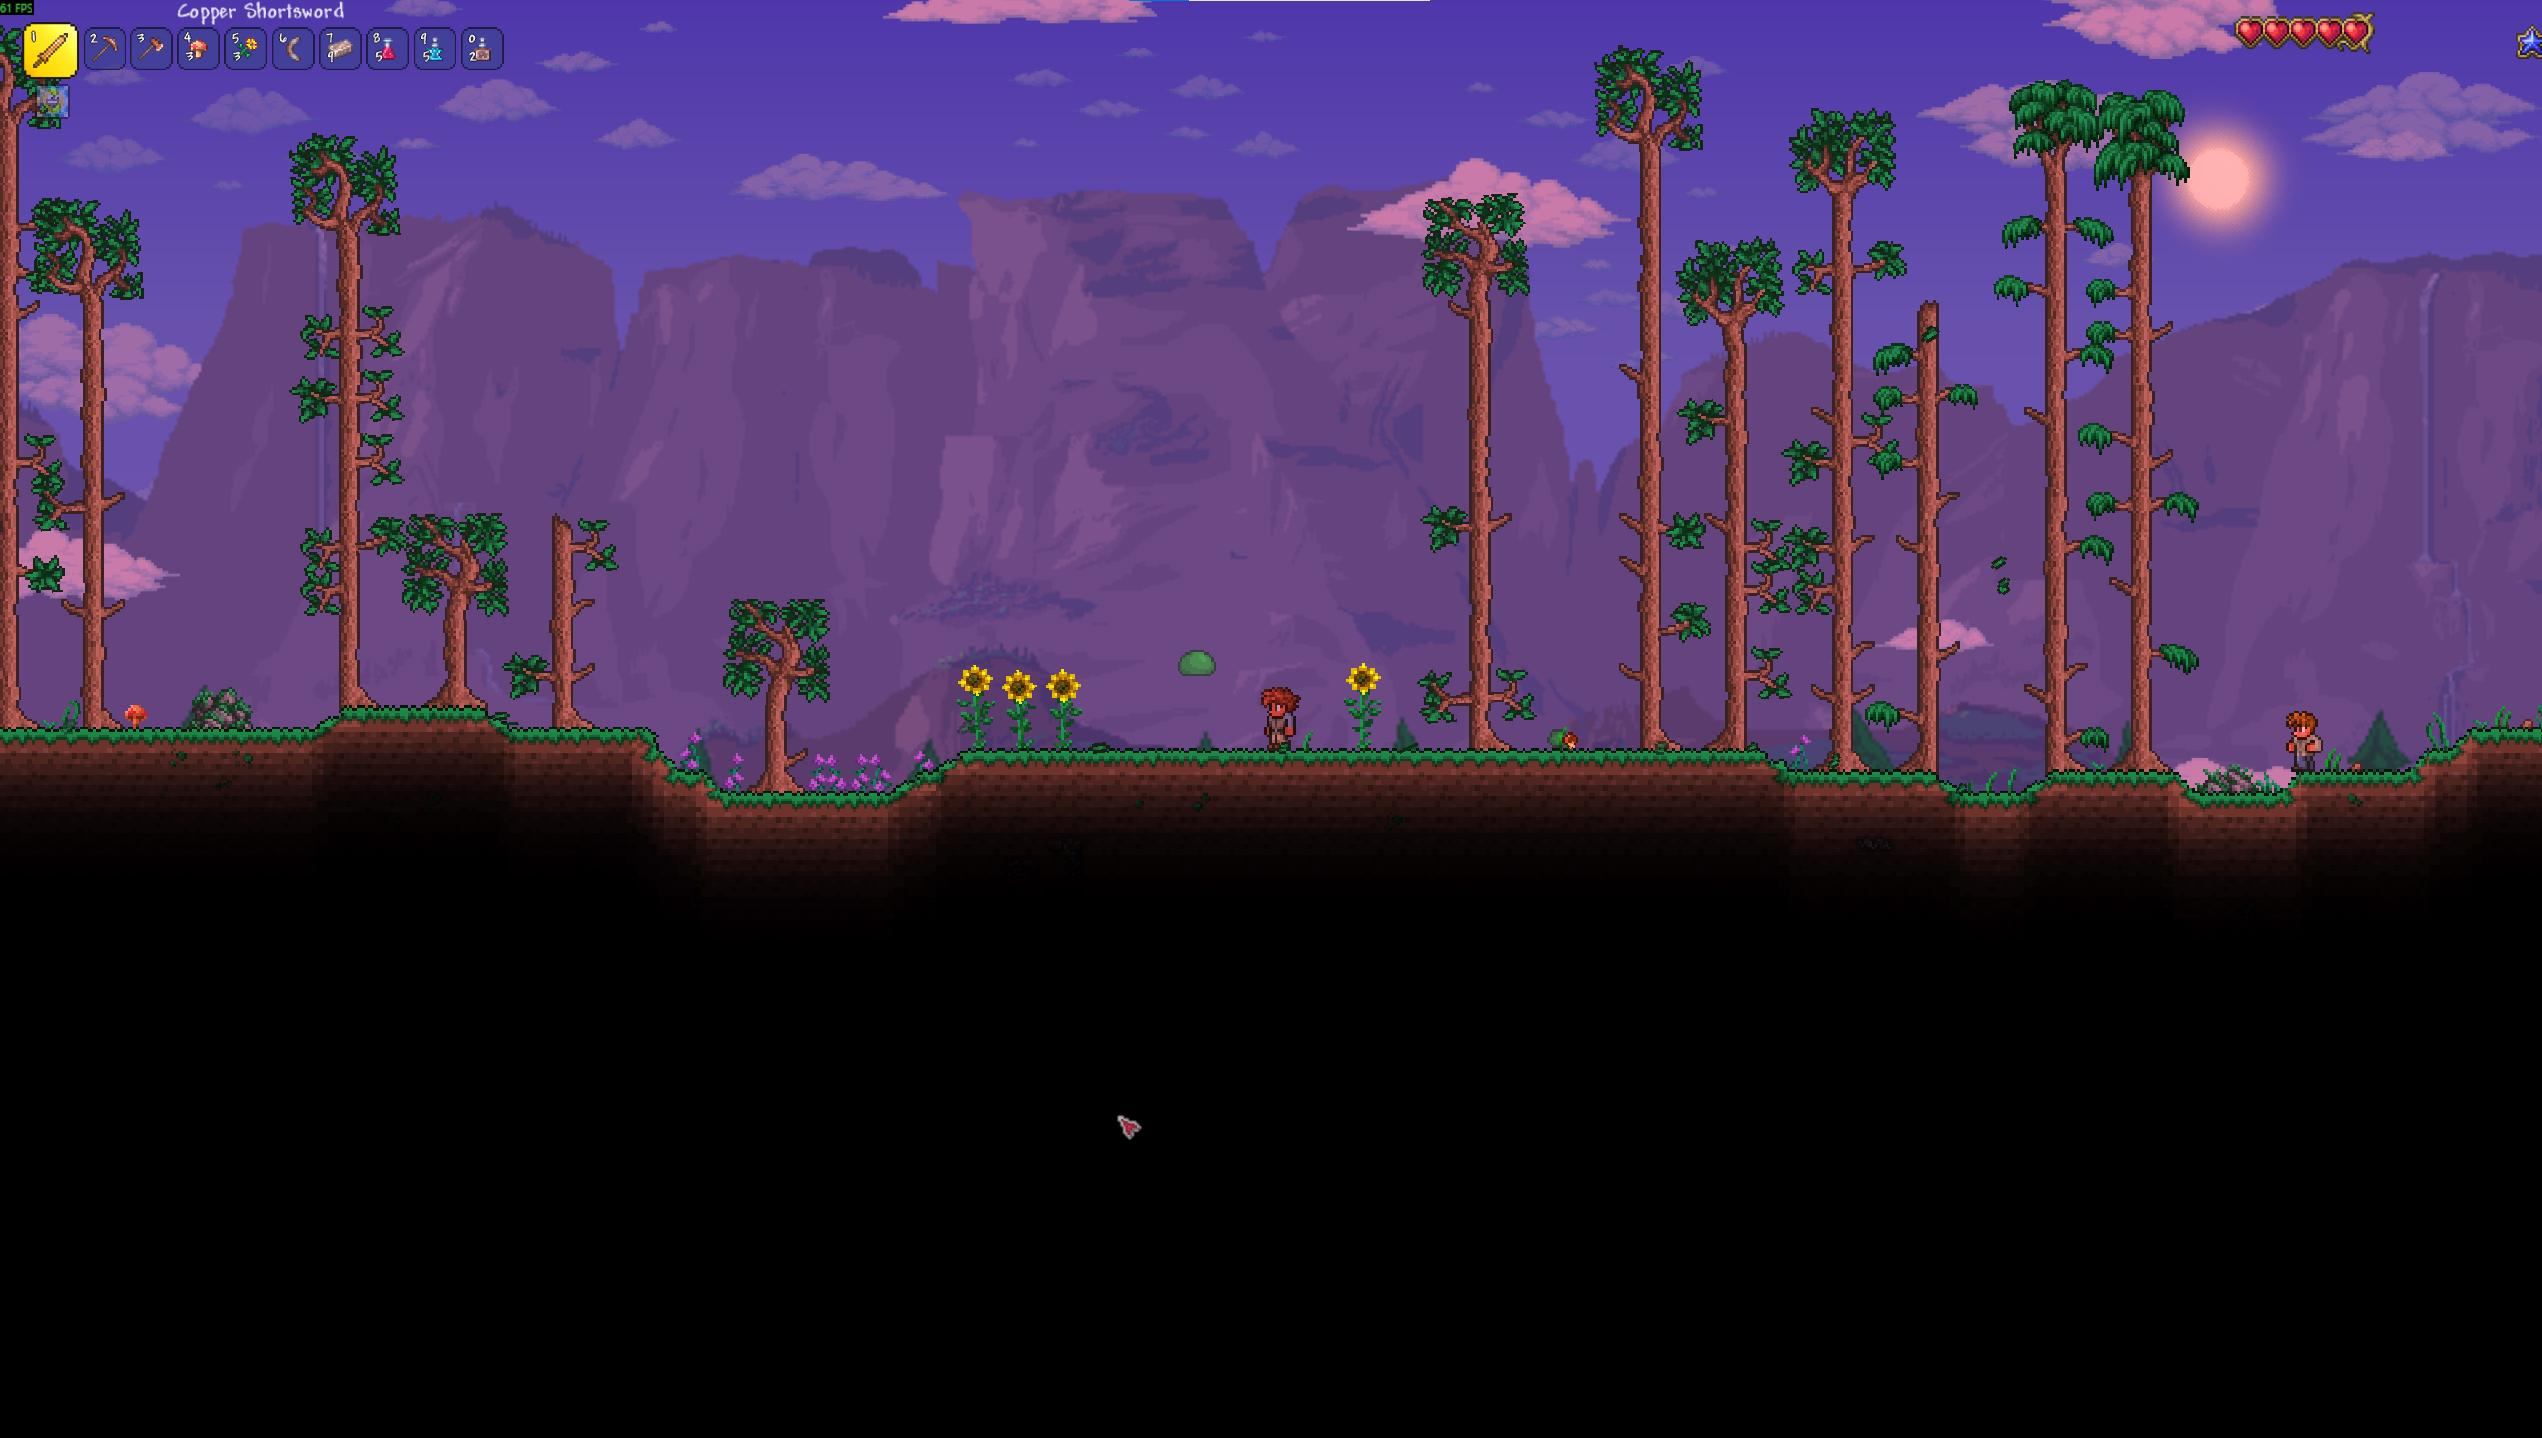Green Slime: (1177, 646, 1219, 681)
